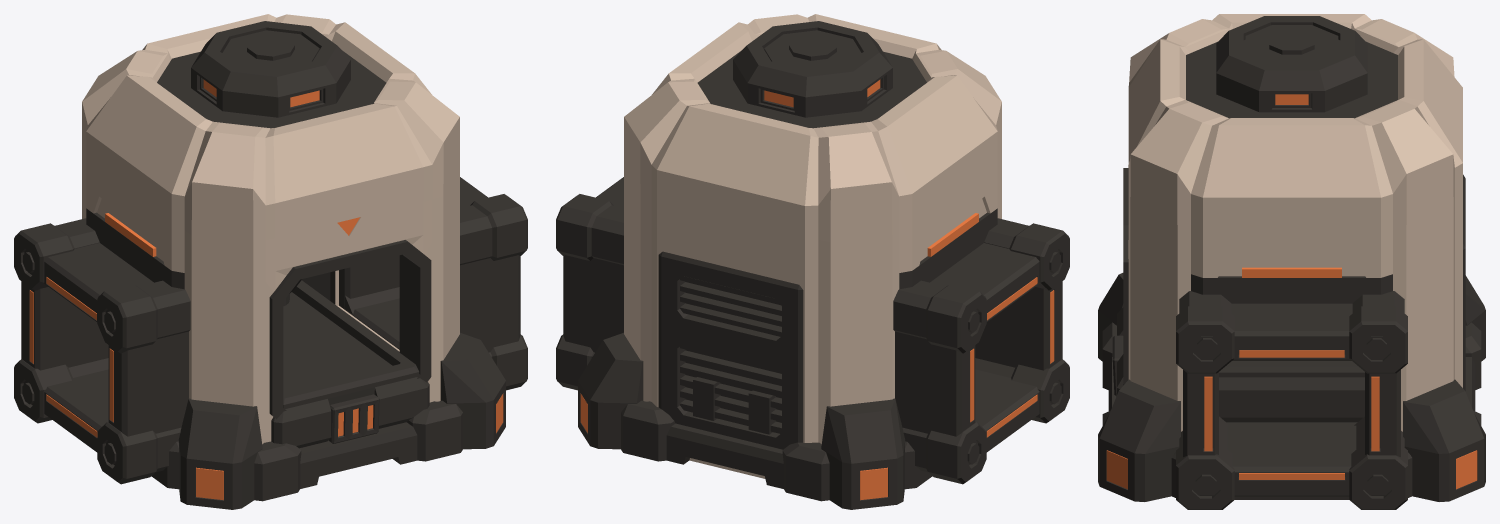
Rendered from Constructor.fbx.
3 views of the same model, side by side, from view 1: azimuth 30°, elevation 25°; view 2: azimuth 150°, elevation 25°; view 3: azimuth 270°, elevation 25° (orthographic). The views are drawn at different scales.
Parts seen in each view (by area): view 1: Body, Port.001, Plate, Base, Head, Port, Light; view 2: Body, Base, Port.001, Head, Port, Light; view 3: Body, Port, Base, Head, Plate, Light.
Boxes of the visible parts, x1,y1,x2,y2 form: Body: (82,14,459,444); Port.001: (14,208,190,484); Plate: (269,240,431,448); Base: (151,332,505,509); Head: (157,21,386,128); Port: (339,177,527,390); Light: (29,79,503,500); Body: (624,14,1001,478); Base: (578,251,932,509); Port.001: (893,208,1069,484); Head: (697,21,926,128); Port: (556,177,623,390); Light: (580,79,1054,500); Body: (1128,14,1462,431); Port: (1176,274,1407,509); Base: (1098,174,1485,501); Head: (1186,16,1397,118); Plate: (1112,168,1364,422); Light: (1106,94,1477,489).
Size of the model in its own units: 1.01 by 0.8679 by 0.8031.
1 material, 1 textured.
